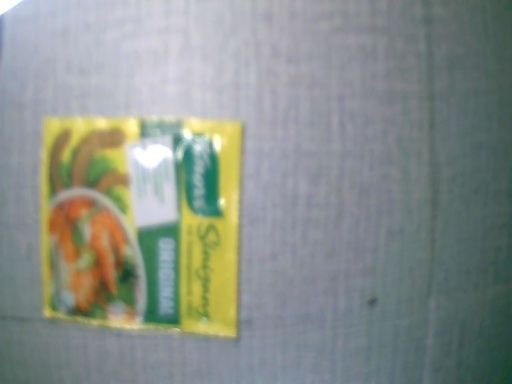plastic: (36, 119, 245, 336)
